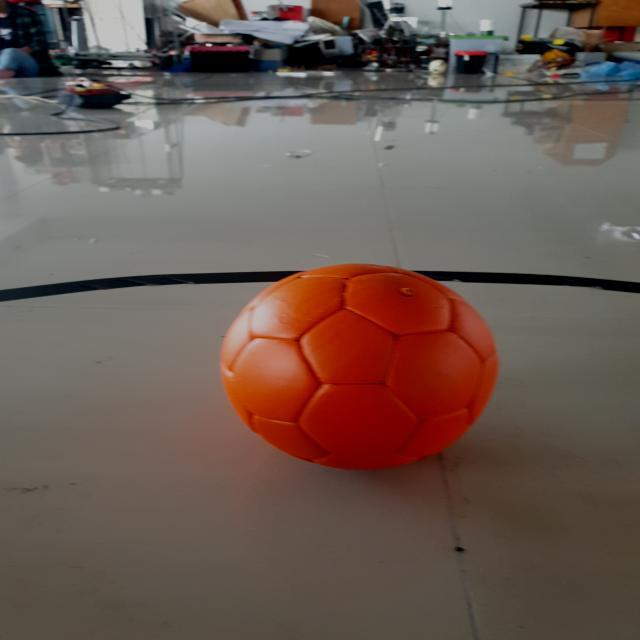bola: (220, 260, 504, 480)
